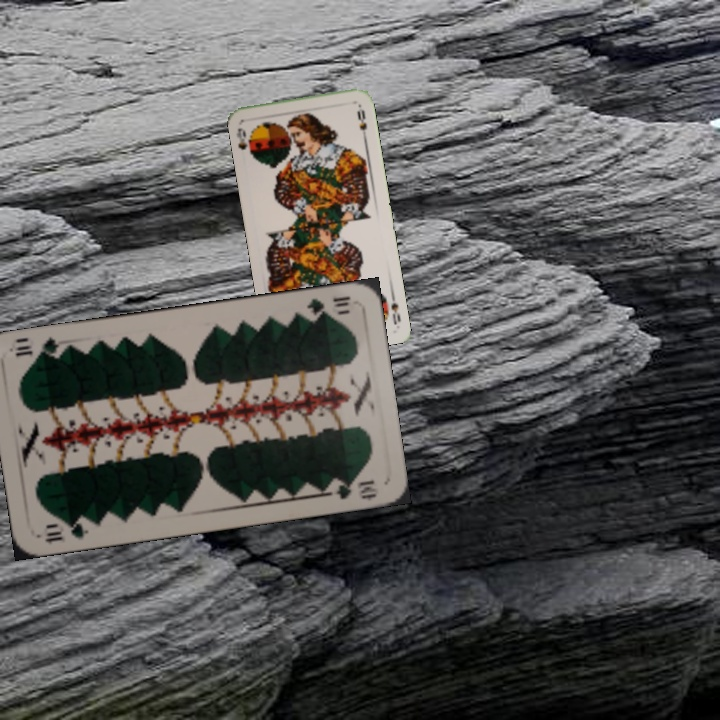G10: (40, 516, 91, 546), (302, 292, 353, 320)
SO: (387, 287, 403, 328), (233, 124, 250, 152)
